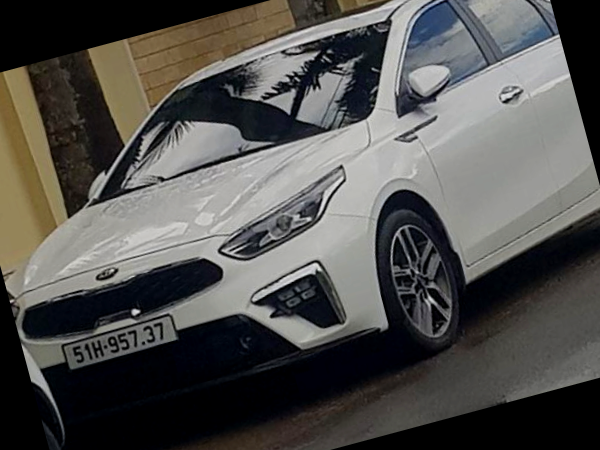lisence: (61, 313, 178, 372)
